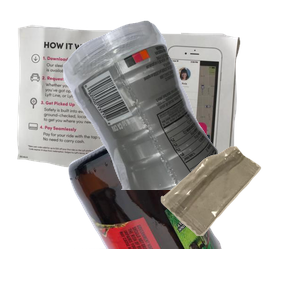glass: (66, 120, 300, 300)
paper: (14, 22, 247, 191)
plastic: (60, 18, 300, 198)
trash: (158, 144, 300, 300)
